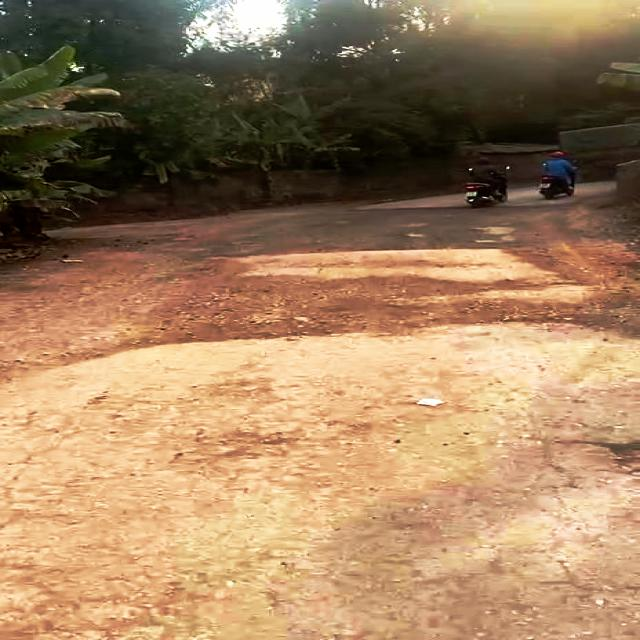pothole: (109, 267, 505, 355), (98, 380, 299, 470), (600, 438, 640, 479)
